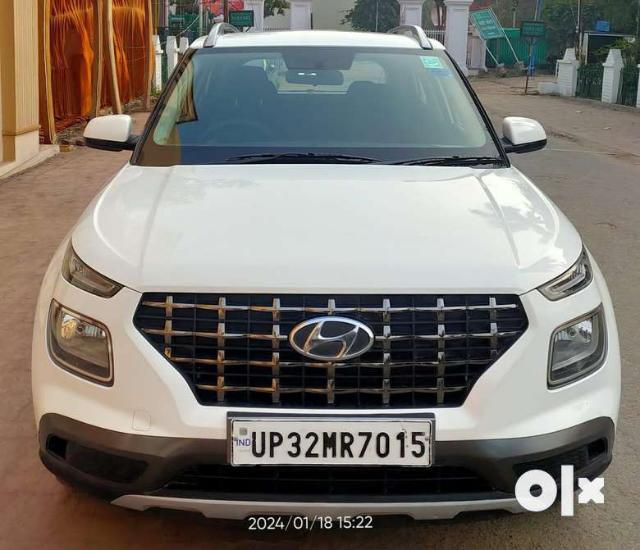Indian_Number_Plate: (226, 418, 436, 468)
